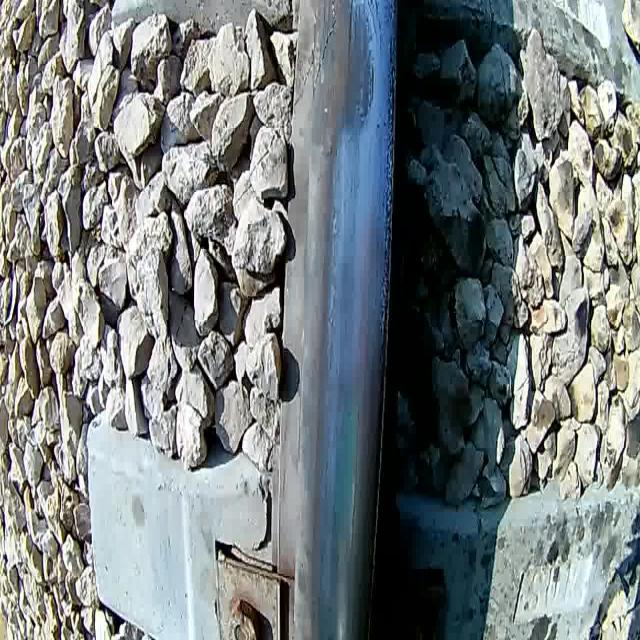Cracks: (345, 396, 366, 584), (313, 0, 340, 93)
Flakings: (375, 0, 404, 415)
Grooves: (345, 1, 359, 68), (366, 52, 376, 114)
Squats: (313, 0, 376, 153)
